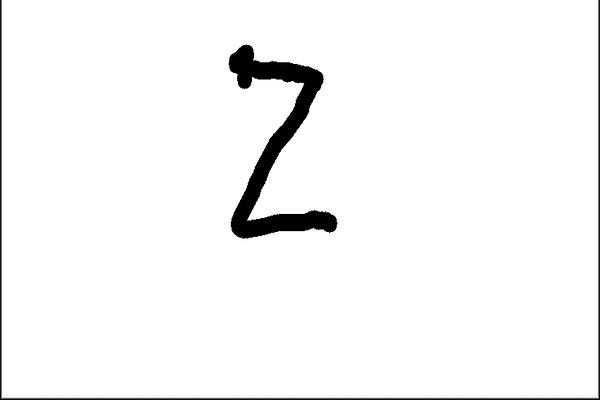Z: (216, 39, 342, 244)
